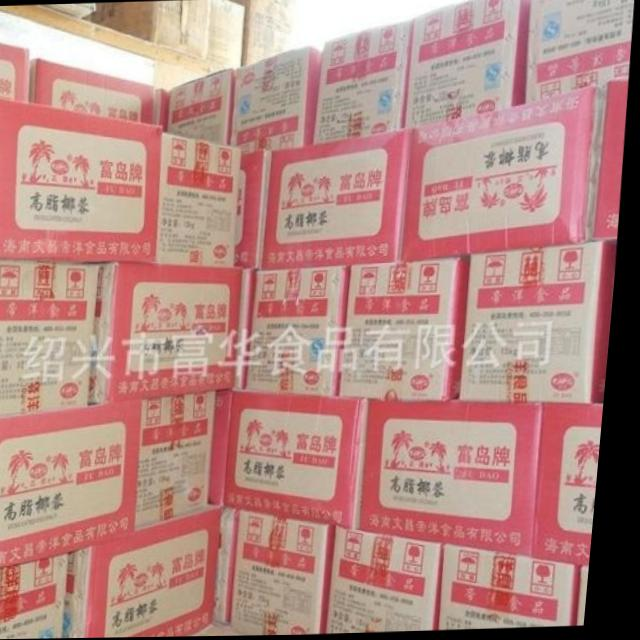box: (407, 82, 612, 262), (371, 401, 551, 558), (0, 95, 163, 262), (0, 400, 150, 572), (467, 242, 621, 406), (97, 259, 249, 404), (76, 505, 233, 639), (264, 130, 415, 269), (233, 392, 378, 531), (345, 256, 475, 402), (0, 259, 105, 416), (407, 0, 533, 130), (253, 265, 355, 397), (242, 509, 345, 636), (451, 546, 600, 631), (337, 529, 454, 635), (317, 21, 413, 144), (161, 133, 244, 267), (542, 405, 611, 566), (529, 0, 634, 104), (146, 392, 223, 530), (234, 48, 323, 151), (29, 57, 156, 123), (0, 553, 79, 639), (168, 68, 237, 142), (596, 82, 627, 241), (243, 150, 274, 269), (217, 391, 237, 506), (227, 506, 246, 622), (245, 266, 260, 391), (0, 43, 30, 101), (153, 90, 172, 133)
